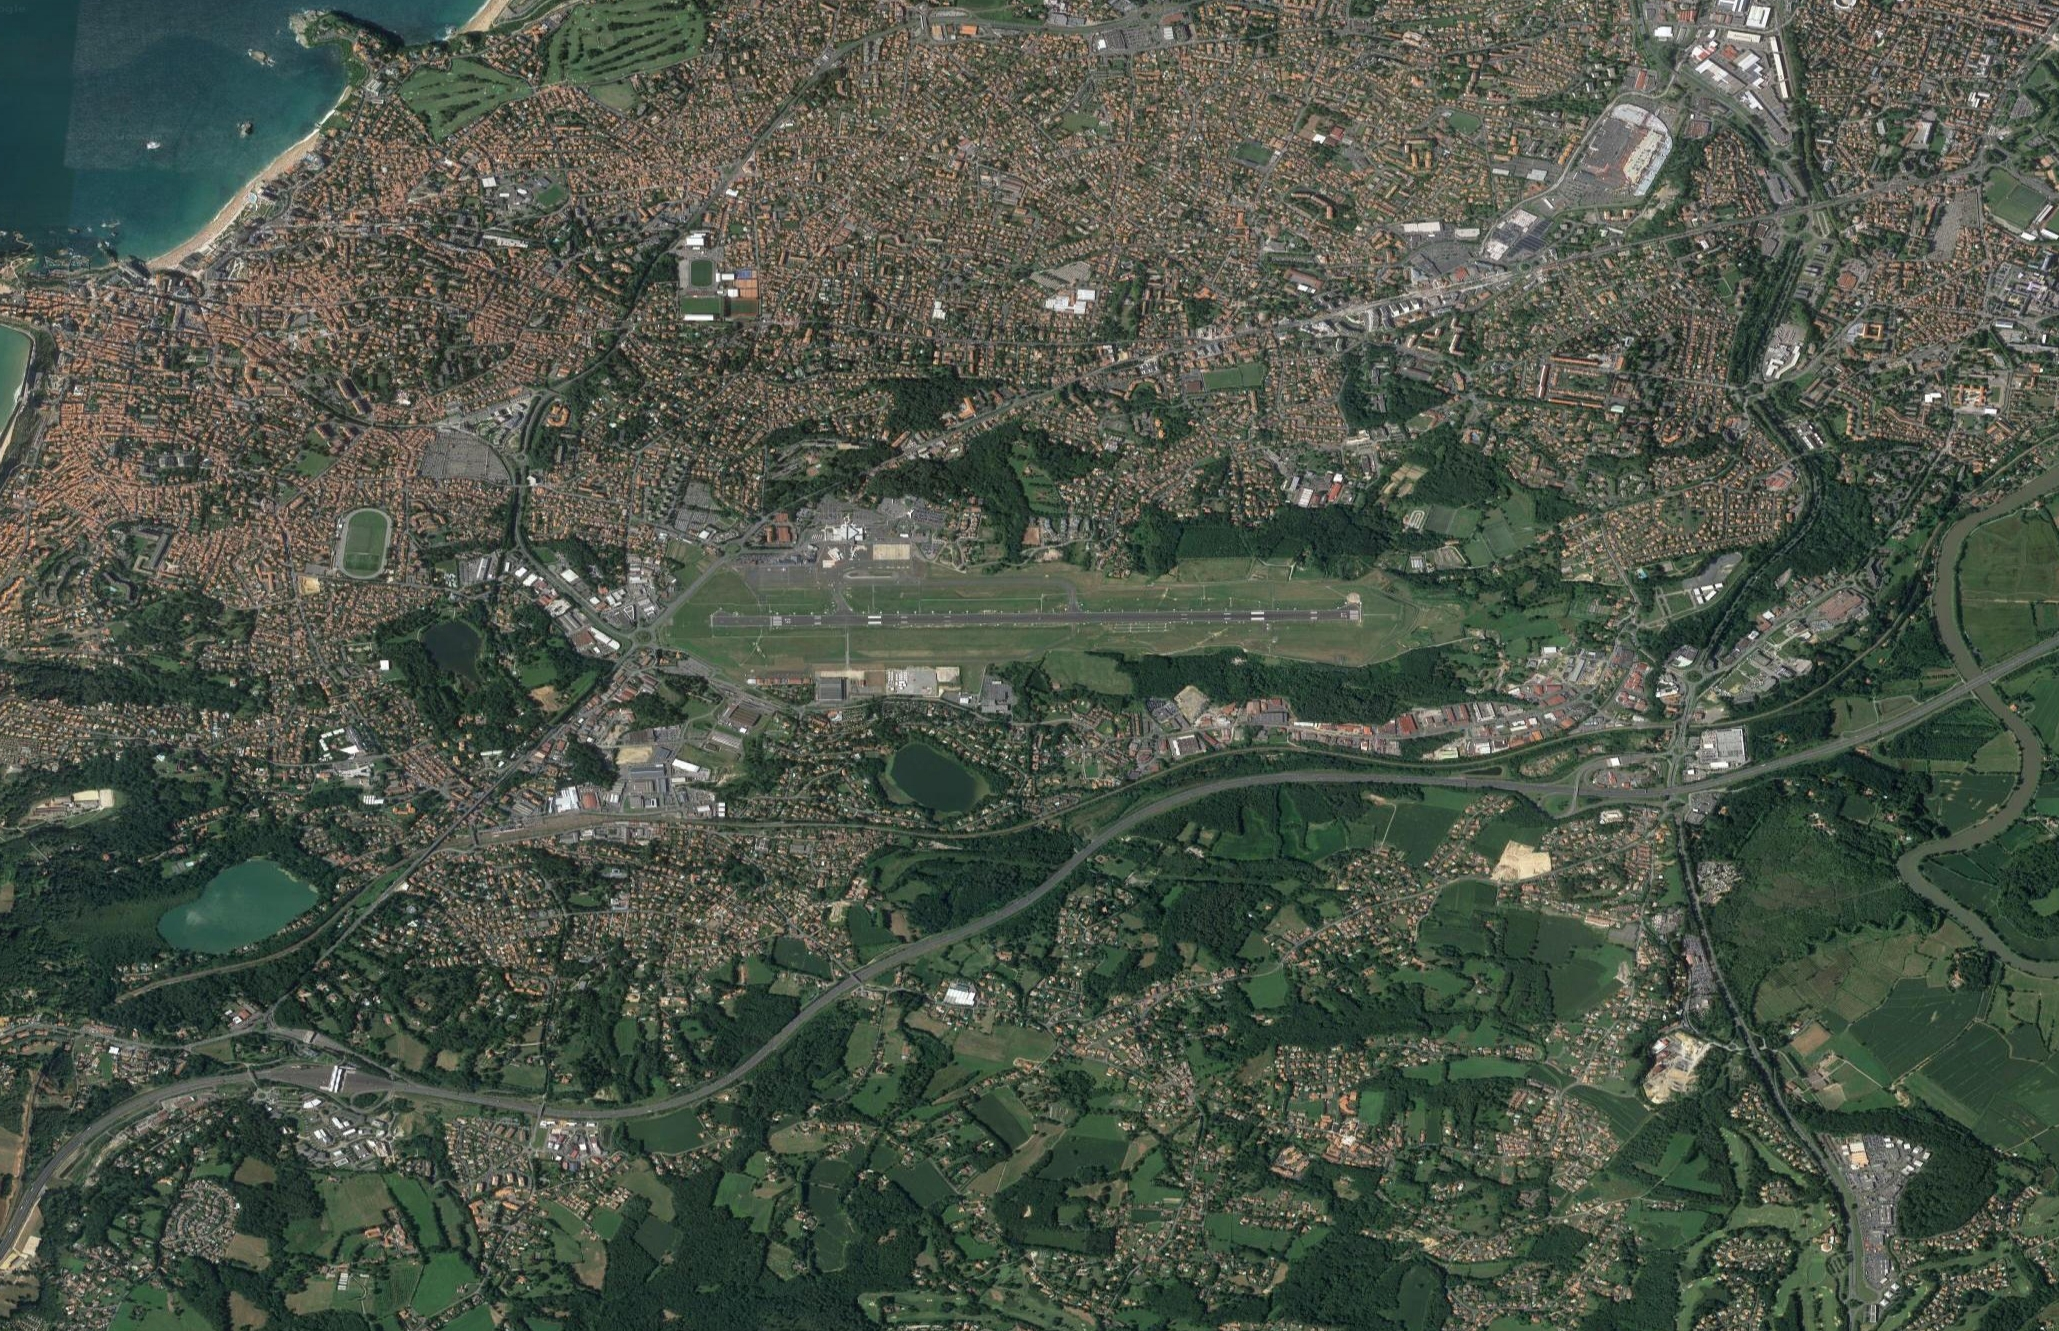airport: (705, 521, 1366, 708)
motorway: (1883, 638, 2059, 740), (2, 1113, 105, 1265), (1013, 813, 1141, 915), (861, 899, 1020, 980), (1138, 767, 1351, 822), (749, 972, 864, 1070), (1739, 723, 1888, 786), (101, 1071, 249, 1131), (606, 1062, 750, 1122), (1349, 771, 1564, 800), (251, 1065, 443, 1097), (443, 1086, 606, 1122), (1559, 780, 1736, 804)
